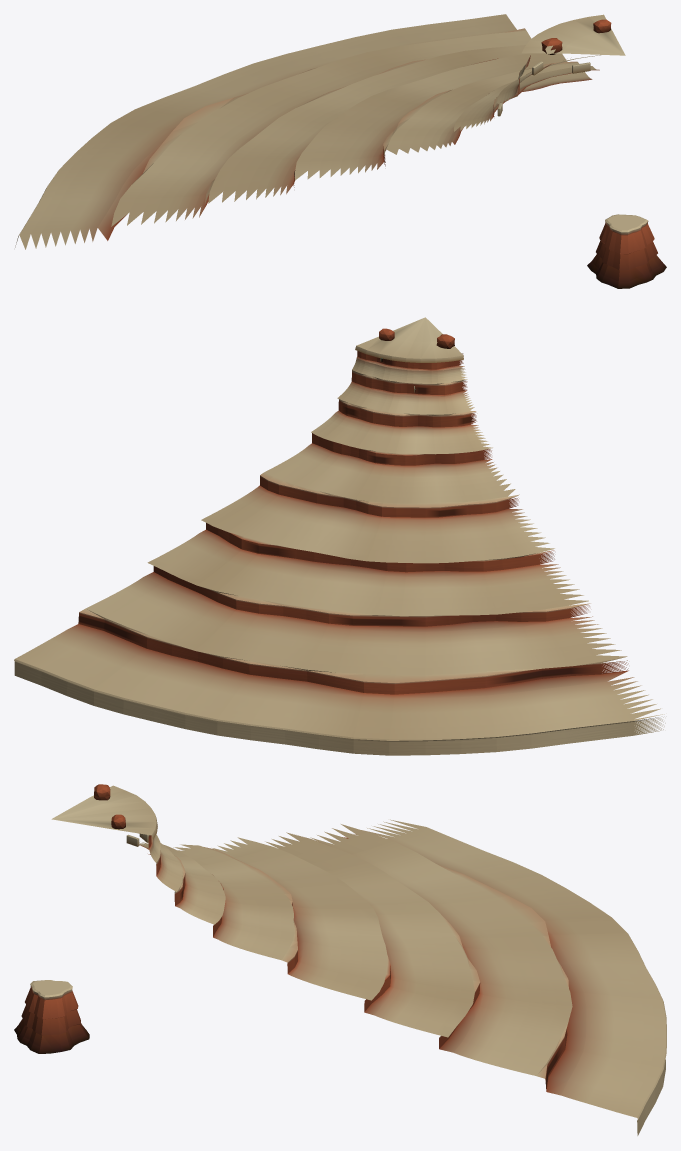
File: canyon-s1-BQG7trOV.glb
3 views of the same model, one above another, from view 1: azimuth 30°, elevation 25°; view 2: azimuth 150°, elevation 25°; view 3: azimuth 270°, elevation 25° (orthographic). The views are drawn at different scales.
Visible parts, largest first — view 1: sc_landmark_1, sc_mesa_1; view 2: sc_landmark_1; view 3: sc_landmark_1, sc_mesa_1.
Part boxes in pixels (x1,y1,x2,y2): sc_landmark_1: [15, 14, 625, 249]; sc_mesa_1: [587, 214, 666, 288]; sc_landmark_1: [14, 317, 665, 755]; sc_landmark_1: [51, 784, 666, 1135]; sc_mesa_1: [14, 980, 89, 1053].
Bounding box in the file's own units: 493 × 185 × 451.
